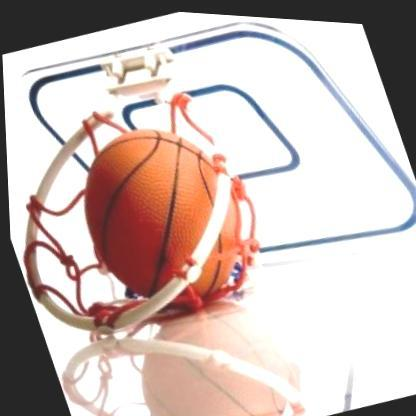basketball: (53, 93, 267, 324)
